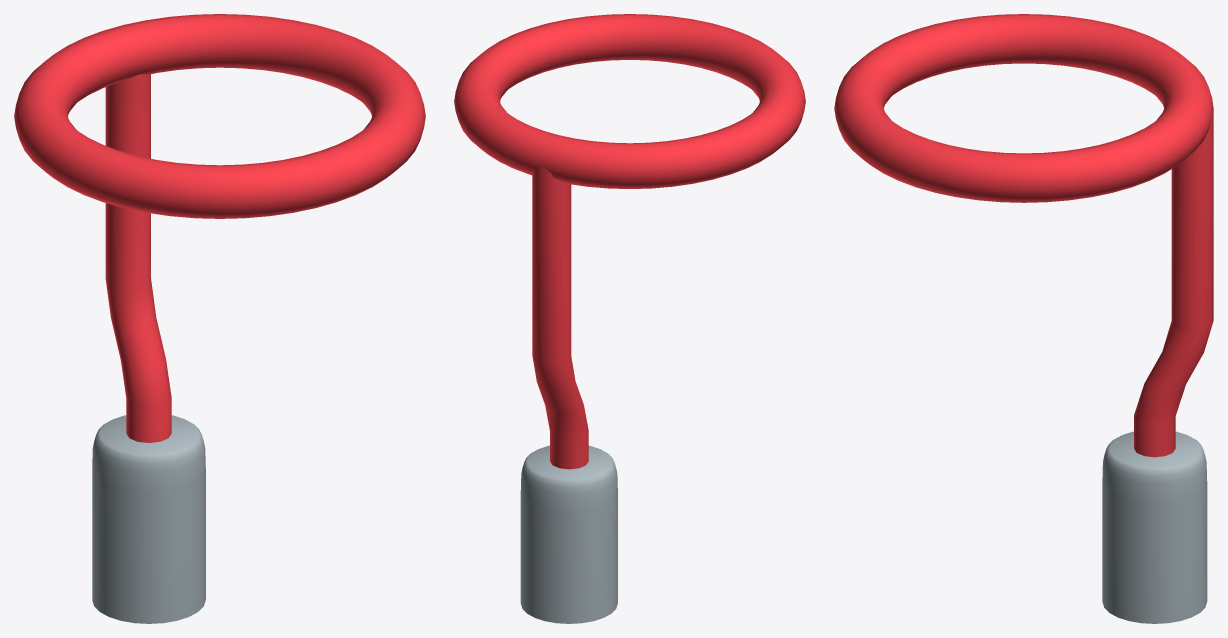
The model's file is hoop_teamRed.glb.
3 renders of one model, left to right at view 1: azimuth 30°, elevation 25°; view 2: azimuth 150°, elevation 25°; view 3: azimuth 270°, elevation 25°, orthographic. The views are drawn at different scales.
Parts seen in each view (by area): view 1: hoop_teamRed; view 2: hoop_teamRed; view 3: hoop_teamRed.
Part boxes in pixels (box(x1,y1,x2,y2)): hoop_teamRed: box(14, 14, 425, 623); hoop_teamRed: box(454, 14, 805, 623); hoop_teamRed: box(834, 14, 1213, 623).
Size of the model in its own units: 0.5921 by 0.8883 by 0.5921.
